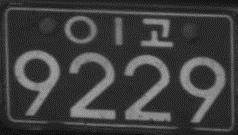0: (63, 14, 99, 45)
1: (106, 16, 132, 45)
2: (68, 50, 117, 121), (122, 53, 171, 122)
9: (178, 55, 226, 123), (13, 49, 60, 117)
고: (139, 17, 173, 47)
